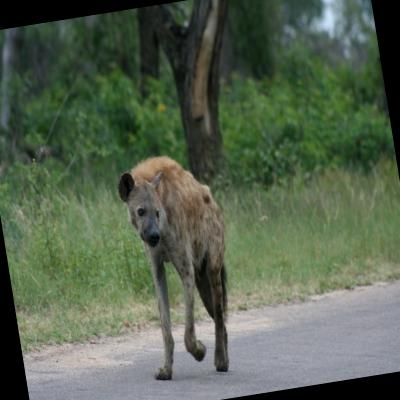hyenas: (48, 114, 273, 400)
